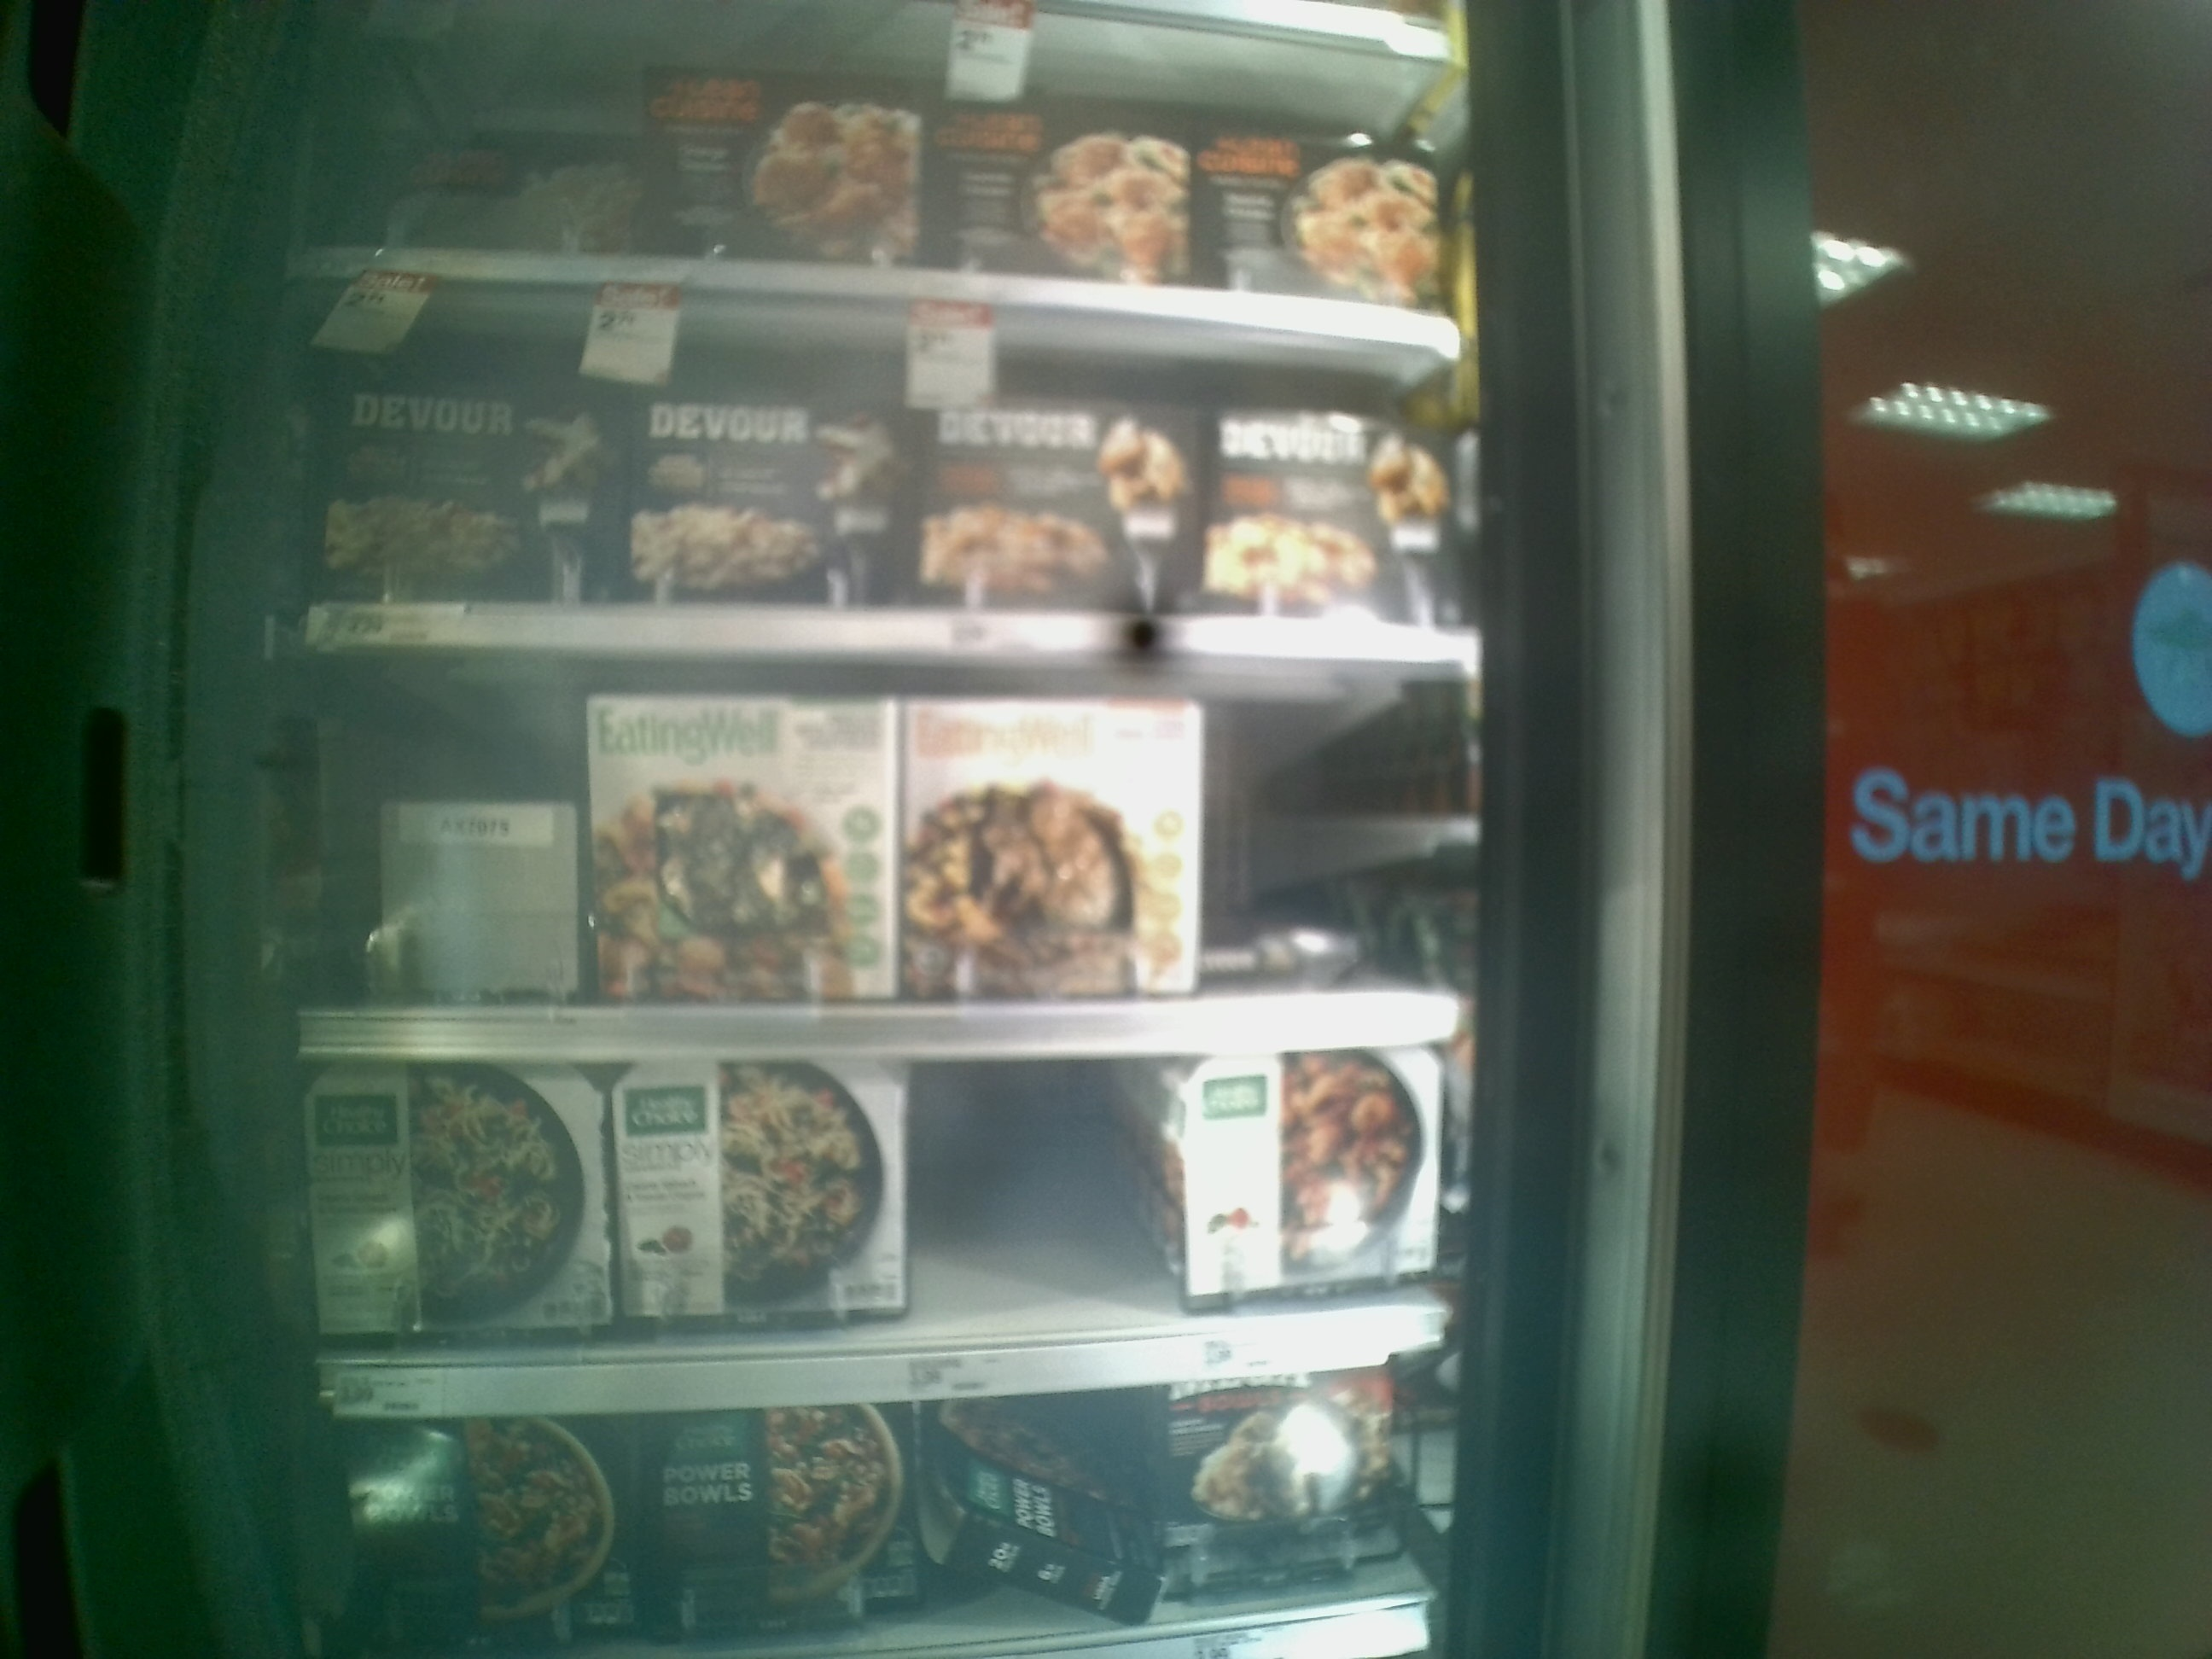shelf: (273, 641, 1486, 1054), (273, 272, 1480, 659), (279, 1053, 1475, 1417)
